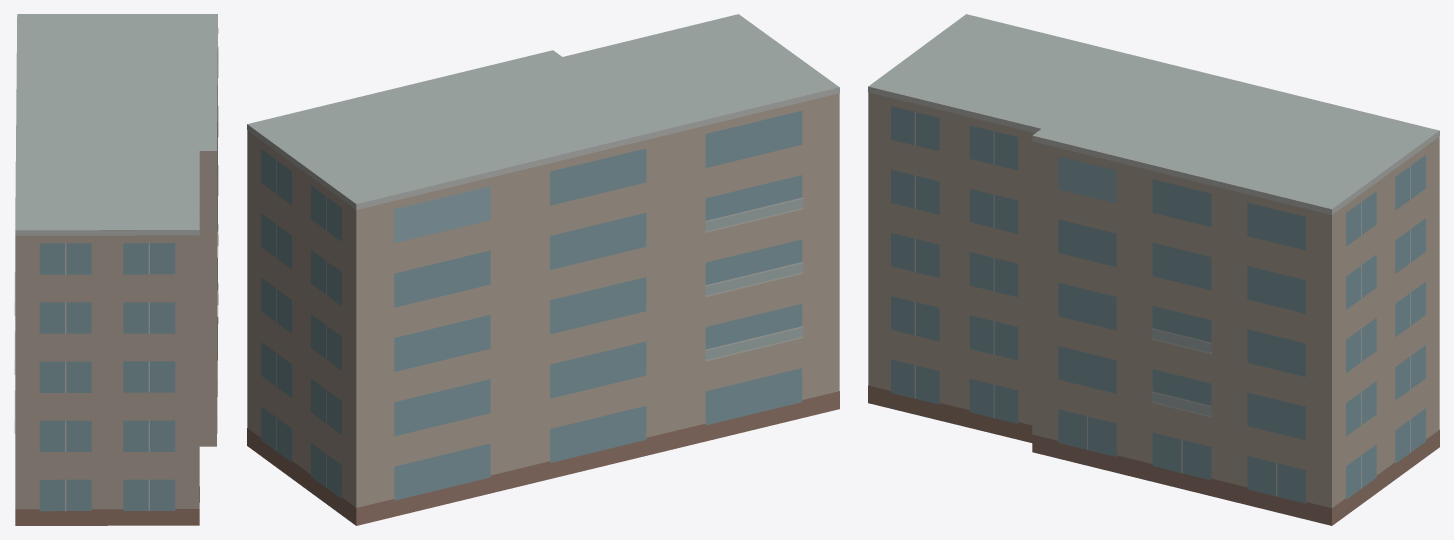
File: survey-upis-32504697.glb
The picture shows the model from 3 angles, left to right: view 1: azimuth 30°, elevation 25°; view 2: azimuth 150°, elevation 25°; view 3: azimuth 270°, elevation 25°; orthographic projection. The views are drawn at different scales.
Parts seen in each view (by area): view 1: survey-upis-32504697.tmp; view 2: survey-upis-32504697.tmp; view 3: survey-upis-32504697.tmp.
Boxes of the visible parts, x1,y1,x2,y2 form: survey-upis-32504697.tmp: (14,14,218,525); survey-upis-32504697.tmp: (247,14,839,525); survey-upis-32504697.tmp: (868,14,1439,525).
Bounding box in the file's own units: 17.61 × 13.3 × 21.77.
